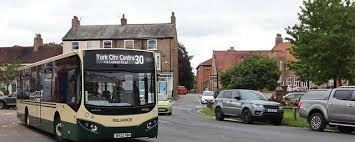bus: (15, 48, 160, 142)
